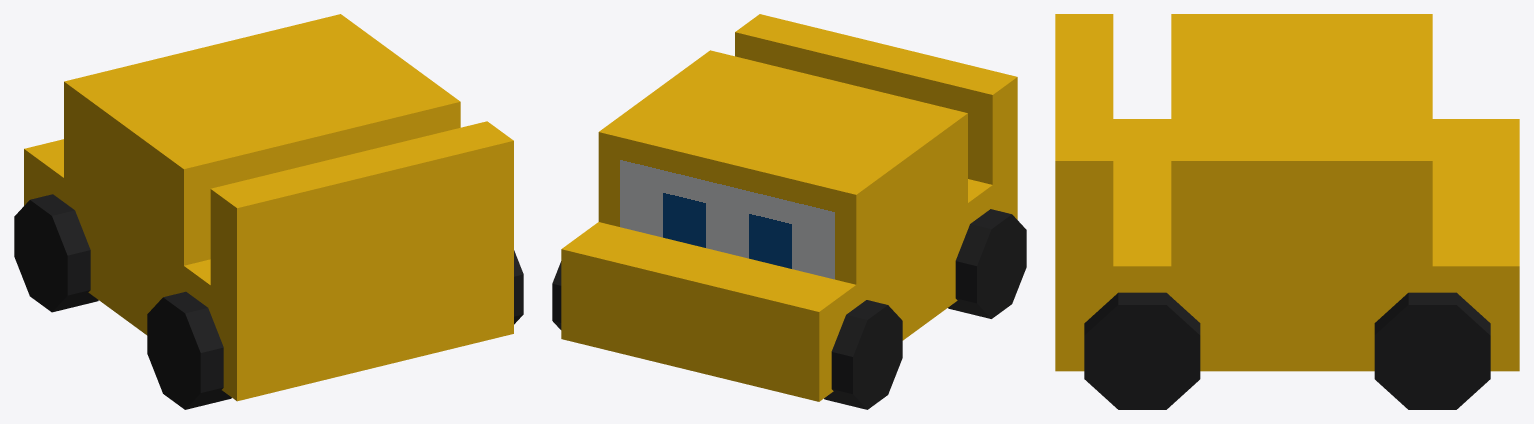
The model's file is ramirez.gltf.
3 views of the same model, side by side, from view 1: azimuth 30°, elevation 25°; view 2: azimuth 150°, elevation 25°; view 3: azimuth 270°, elevation 25° (orthographic). The views are drawn at different scales.
Visible parts, largest first — view 1: cube (×3), cylinder (×3); view 2: cube (×3), cylinder (×3); view 3: cube (×3), cylinder (×2).
Part boxes in pixels (x1=…): cube (×3): x1=24, y1=14, x2=513, y2=401; cylinder (×3): x1=14, y1=194, x2=523, y2=409; cube (×3): x1=561, y1=14, x2=1017, y2=401; cylinder (×3): x1=552, y1=209, x2=1026, y2=409; cube (×3): x1=1055, y1=14, x2=1519, y2=371; cylinder (×2): x1=1084, y1=292, x2=1490, y2=409.
Bounding box in the file's own units: 0.875 × 0.5625 × 1.
1 material, 1 textured.
